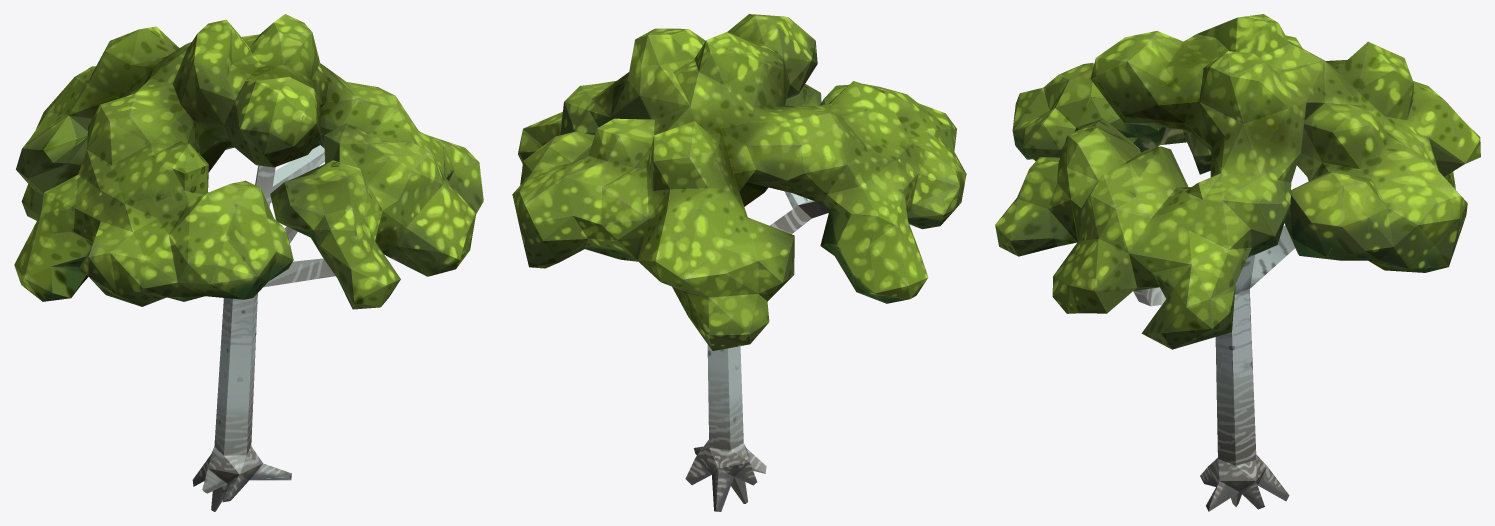
Rendered from tree.obj.
3 renders of one model, left to right at view 1: azimuth 30°, elevation 25°; view 2: azimuth 150°, elevation 25°; view 3: azimuth 270°, elevation 25°, orthographic. The views are drawn at different scales.
Parts seen in each view (by area): view 1: Icosphere_000; view 2: Icosphere_000; view 3: Icosphere_000.
Boxes of the visible parts, box(x1,y1,x2,y2) form: Icosphere_000: box(14, 14, 483, 511); Icosphere_000: box(512, 14, 966, 511); Icosphere_000: box(995, 14, 1480, 511).
Bounding box in the file's own units: 18.15 × 19.18 × 16.95.
1 material, 1 textured.
